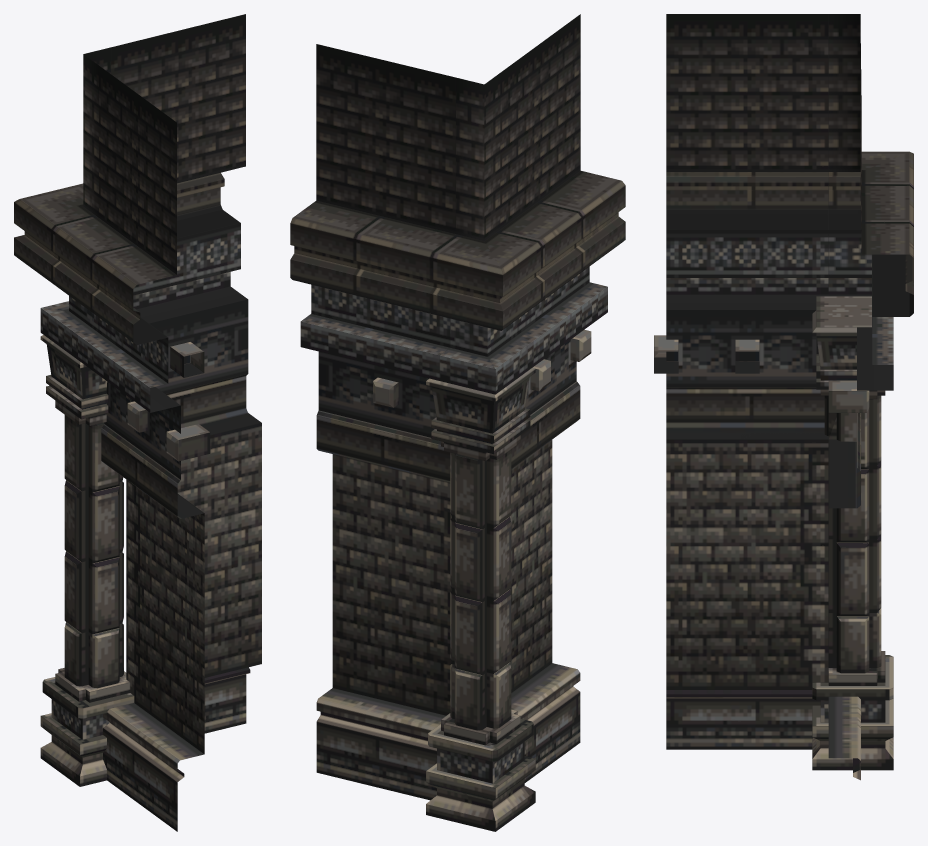
The model's file is EnvMdrMD_Castle_A_Wall_CoOut_LS.FBX.
3 renders of one model, left to right at view 1: azimuth 30°, elevation 25°; view 2: azimuth 150°, elevation 25°; view 3: azimuth 270°, elevation 25°, orthographic. The views are drawn at different scales.
Parts seen in each view (by area): view 1: EnvMdrMD_Castle_A_Wall_CoOut_LS; view 2: EnvMdrMD_Castle_A_Wall_CoOut_LS; view 3: EnvMdrMD_Castle_A_Wall_CoOut_LS.
Boxes of the visible parts, left/top/right/bottom form: EnvMdrMD_Castle_A_Wall_CoOut_LS: left=14, top=14, right=261, bottom=831; EnvMdrMD_Castle_A_Wall_CoOut_LS: left=290, top=14, right=625, bottom=831; EnvMdrMD_Castle_A_Wall_CoOut_LS: left=654, top=14, right=913, bottom=780.
Bounding box in the file's own units: 305 × 1000 × 320.
1 material, 1 textured.
